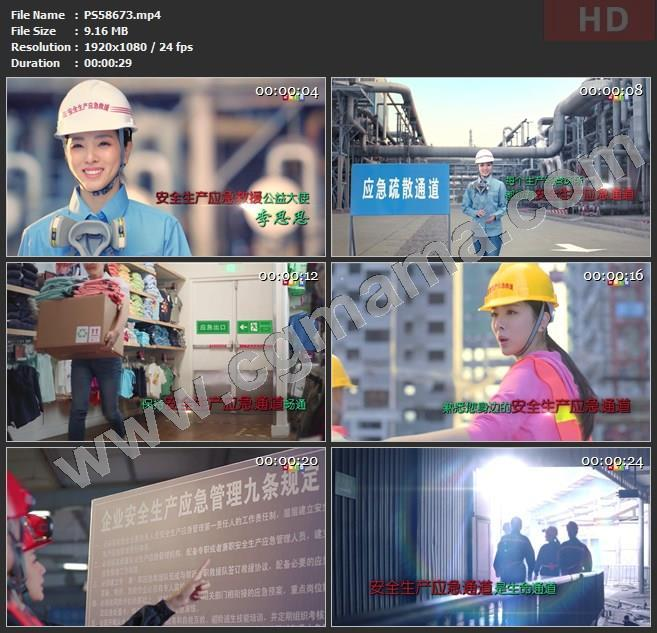helmet: (54, 81, 137, 141), (477, 263, 559, 317), (8, 469, 37, 519), (22, 514, 57, 551), (475, 149, 496, 166)
